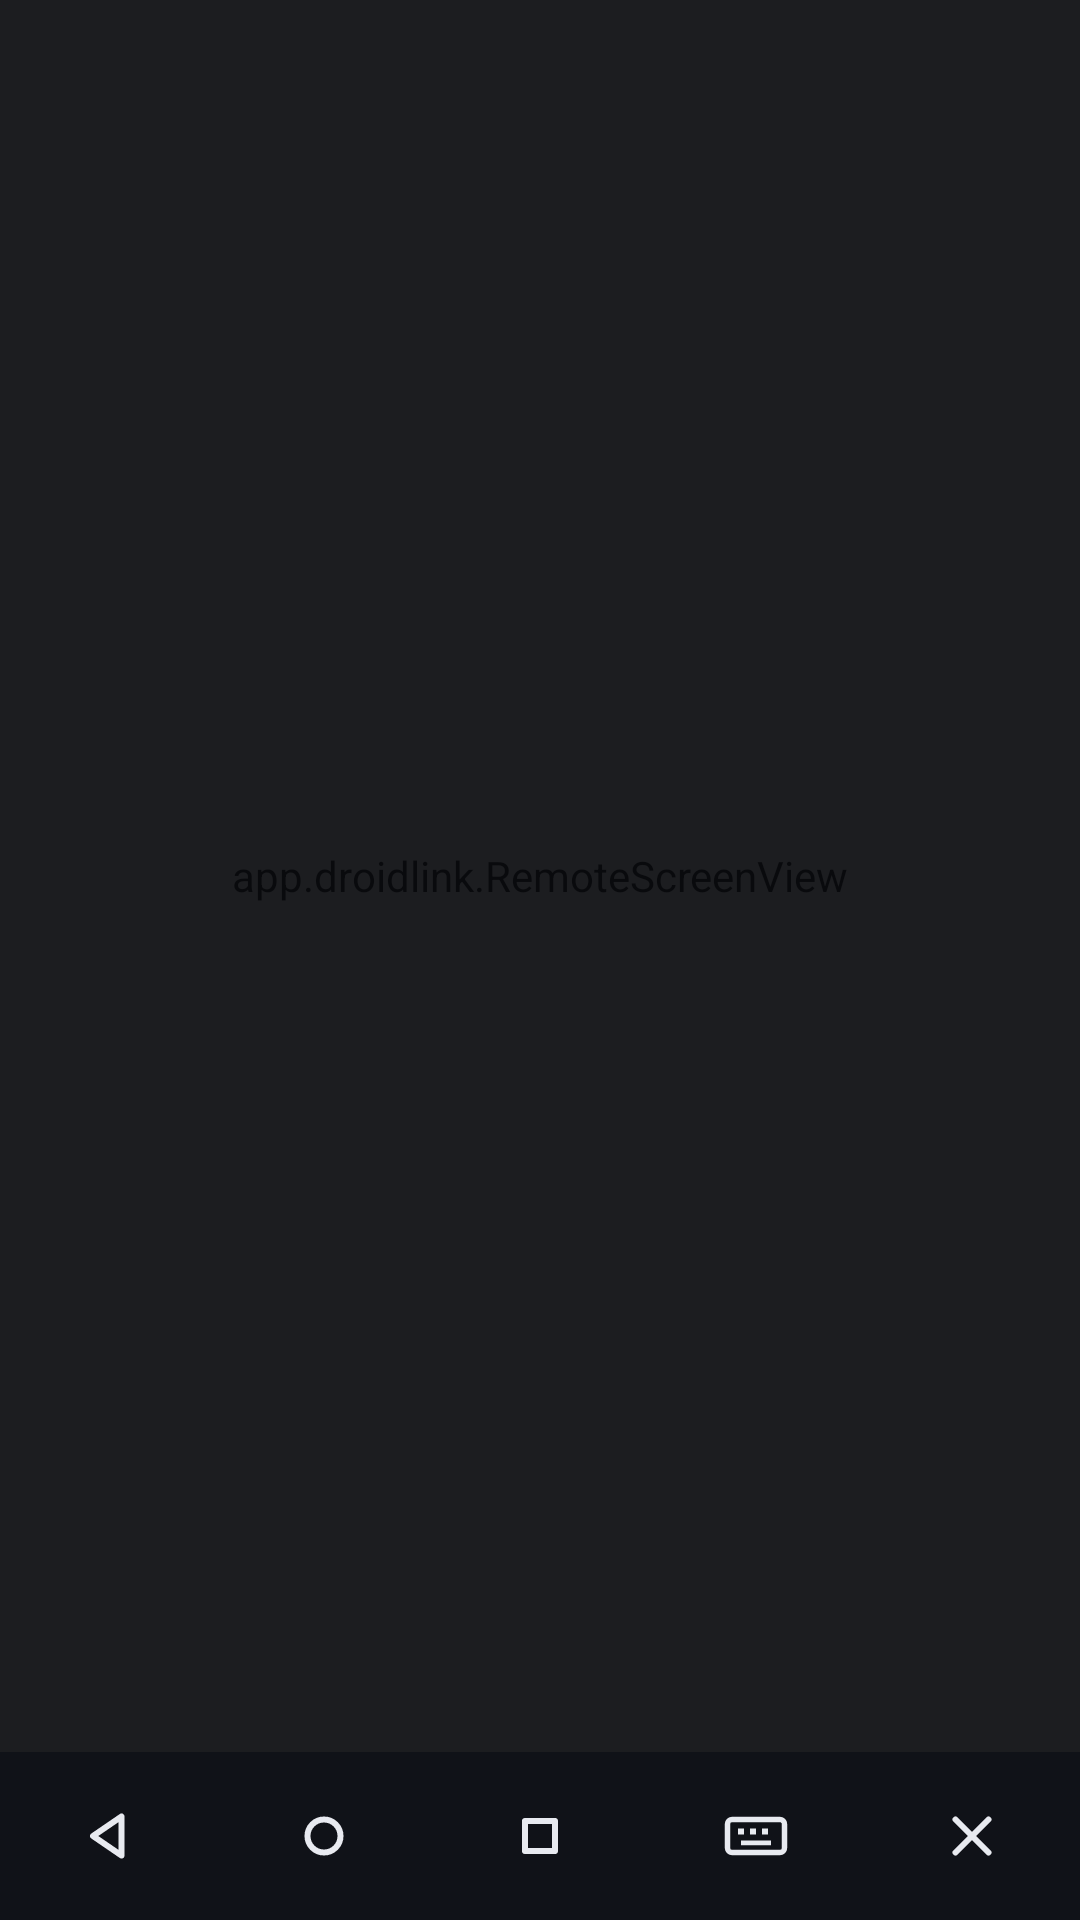

Icon bounding boxes for this 1080px x 1920px phone screenshot, format (x1, y1, x2, y2):
Back on the other phone: (90, 1813, 125, 1859)
Disconnect: (952, 1816, 992, 1856)
Home on the other phone. Long-press for notifications: (304, 1816, 344, 1856)
Recent apps on the other phone: (522, 1818, 558, 1854)
Type text: (724, 1816, 788, 1856)
